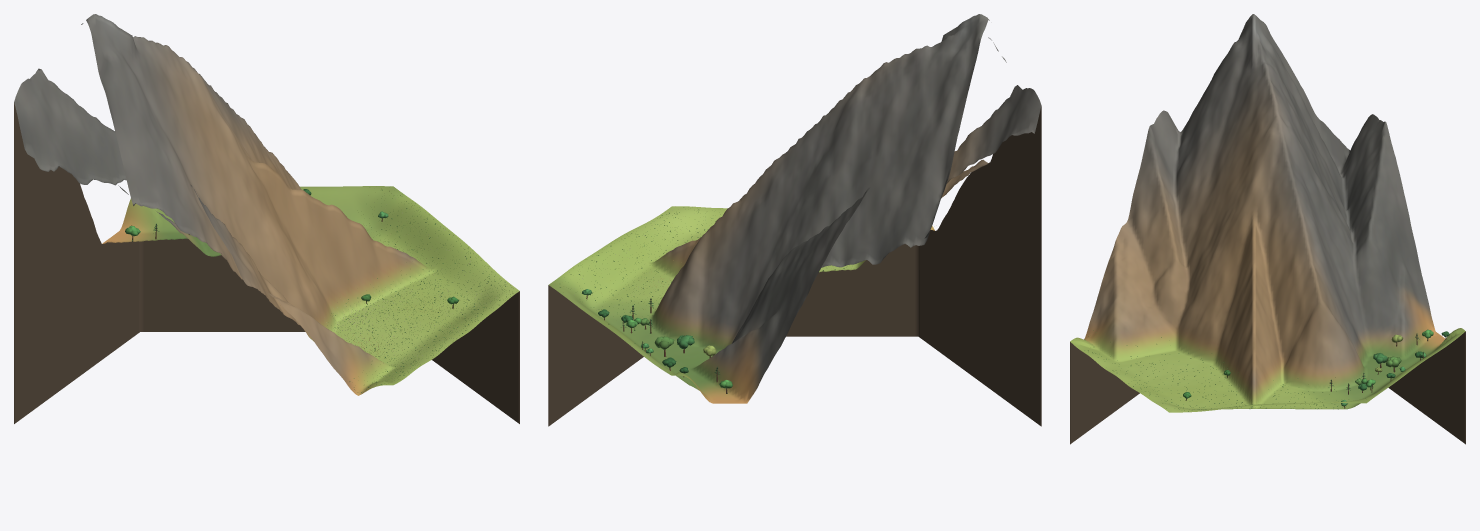
The picture shows the model from 3 angles, left to right: view 1: azimuth 30°, elevation 25°; view 2: azimuth 150°, elevation 25°; view 3: azimuth 270°, elevation 25°; orthographic projection. The views are drawn at different scales.
Parts seen in each view (by area): view 1: terrain, hex_side_cut, PL_SW_wildflowers; view 2: terrain, hex_side_cut, F_S2_broadleaf_canopy; view 3: terrain, hex_side_cut, F_S2_broadleaf_canopy.
Boxes of the visible parts, x1,y1,x2,y2 form: terrain: (14,14,519,395); hex_side_cut: (14,102,519,423); PL_SW_wildflowers: (311,288,510,392); terrain: (549,14,1041,403); hex_side_cut: (548,106,1041,426); F_S2_broadleaf_canopy: (582,289,732,388); terrain: (1070,14,1465,412); hex_side_cut: (1070,331,1465,444); F_S2_broadleaf_canopy: (1341,329,1449,406).
Bounding box in the file's own units: 4330 × 5029 × 5000.
